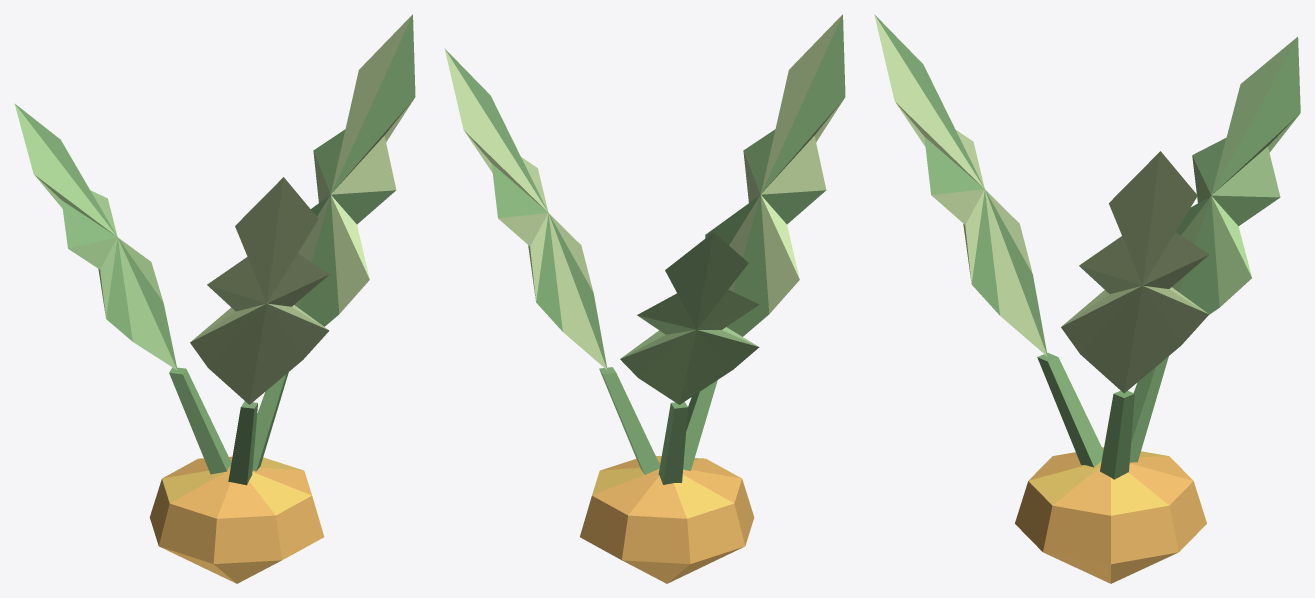
The model's file is crop_carrot_s1.glb.
3 views of the same model, side by side, from view 1: azimuth 30°, elevation 25°; view 2: azimuth 150°, elevation 25°; view 3: azimuth 270°, elevation 25° (orthographic). The views are drawn at different scales.
Visible parts, largest first — view 1: crop_carrot_s1; view 2: crop_carrot_s1; view 3: crop_carrot_s1.
Boxes of the visible parts, x1,y1,x2,y2 form: crop_carrot_s1: [14, 14, 415, 583]; crop_carrot_s1: [444, 14, 845, 583]; crop_carrot_s1: [874, 14, 1300, 583].
Size of the model in its own units: 0.227 by 0.32 by 0.2306.
